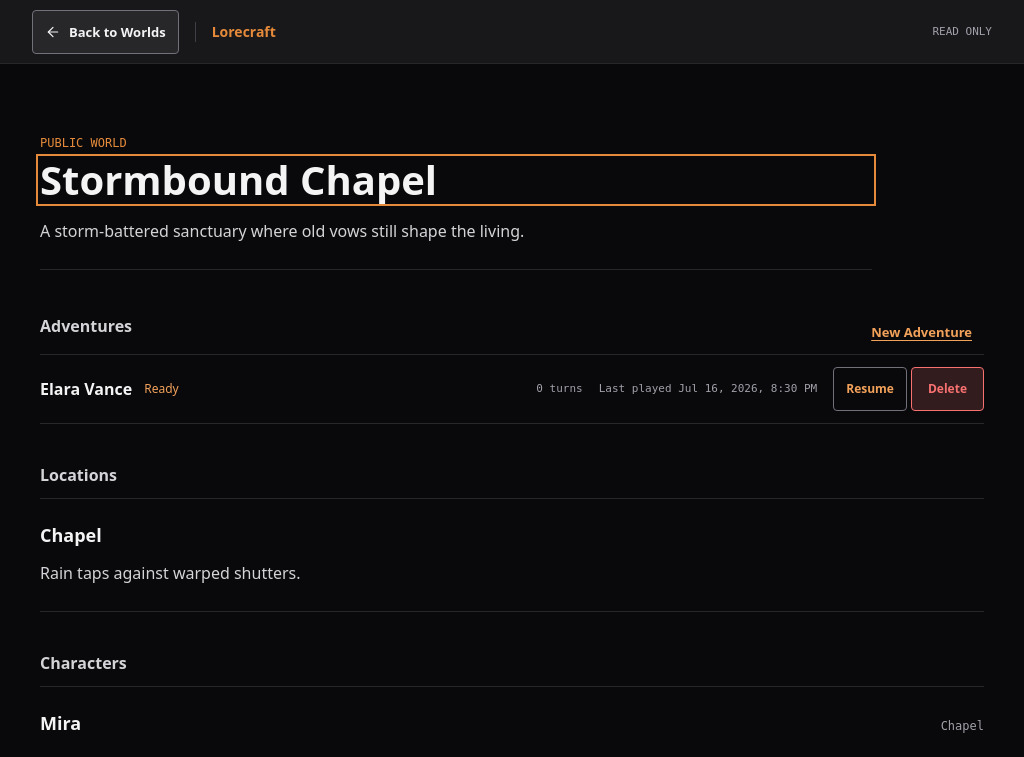
Scenario: World catalog and detail routes › LC-003/S1/R4-S3 deletes only the confirmed Adventure from the World list
Click the button with aria-label "Delete Adventure for Elara Vance": (948, 389) [911,367,984,411]
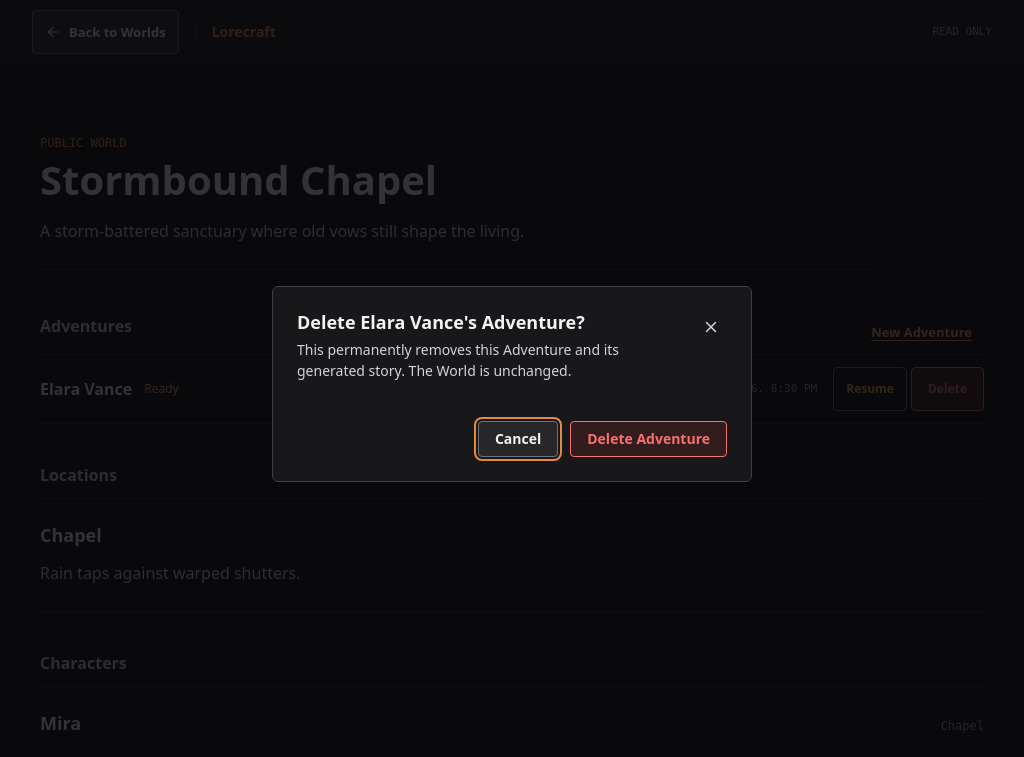
Click the button "Delete Adventure": (649, 439) [570,421,727,457]
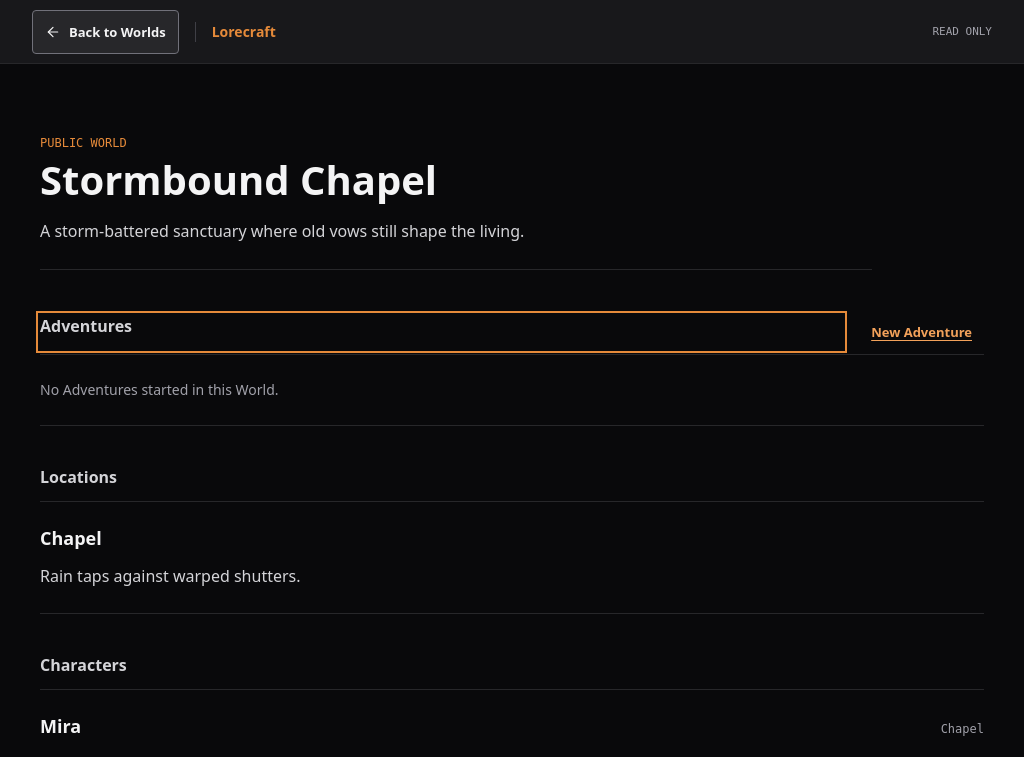
Now the text "No Adventures started in this World." is shown, box [40,355,984,426]
